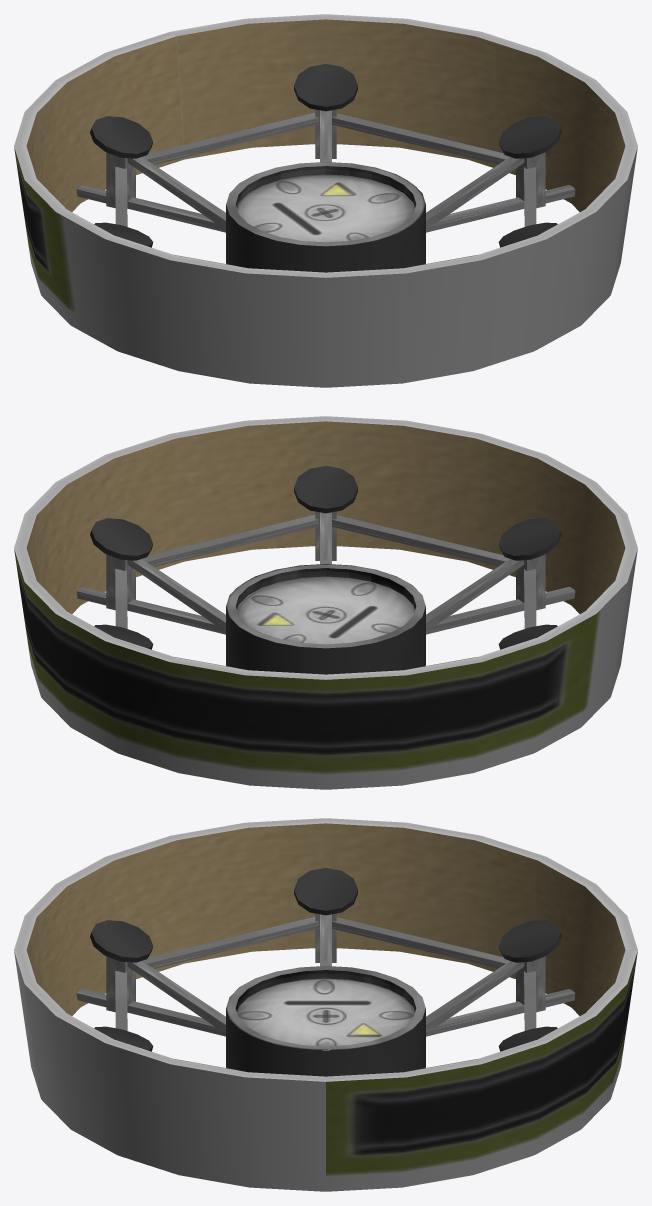
3 renders of one model, top to bottom at view 1: azimuth 30°, elevation 25°; view 2: azimuth 150°, elevation 25°; view 3: azimuth 270°, elevation 25°, orthographic.
Parts seen in each view (by area): view 1: Adapter18, Cylinder047, Cylinder029, Box040, Box043, Cylinder028, Cylinder024, Box110, Box026, Box108, Box115, Box039 (+6 smaller); view 2: Adapter18, Cylinder047, Cylinder025, Box031, Box028, Cylinder026, Cylinder024, Box026, Box114, Box112, Box108, Box027 (+6 smaller); view 3: Adapter18, Cylinder047, Cylinder027, Box034, Box037, Cylinder026, Cylinder028, Box115, Box114, Box112, Box110, Box033 (+6 smaller).
Boxes of the visible parts, x1=… form: Adapter18: x1=14, y1=14, x2=637, y2=387; Cylinder047: x1=226, y1=162, x2=425, y2=272; Cylinder029: x1=294, y1=64, x2=357, y2=111; Box040: x1=133, y1=112, x2=318, y2=170; Box043: x1=332, y1=113, x2=517, y2=169; Cylinder028: x1=90, y1=116, x2=153, y2=158; Cylinder024: x1=498, y1=116, x2=561, y2=158; Box110: x1=127, y1=157, x2=225, y2=229; Box026: x1=426, y1=157, x2=524, y2=229; Box108: x1=237, y1=185, x2=575, y2=266; Box115: x1=76, y1=185, x2=414, y2=266; Box039: x1=106, y1=152, x2=135, y2=208; Adapter18: x1=14, y1=416, x2=637, y2=789; Cylinder047: x1=226, y1=564, x2=425, y2=674; Cylinder025: x1=294, y1=466, x2=357, y2=513; Box031: x1=332, y1=515, x2=517, y2=571; Box028: x1=133, y1=514, x2=318, y2=572; Cylinder026: x1=498, y1=518, x2=561, y2=560; Cylinder024: x1=90, y1=518, x2=153, y2=560; Box026: x1=127, y1=559, x2=225, y2=631; Box114: x1=237, y1=586, x2=575, y2=668; Box112: x1=426, y1=559, x2=524, y2=631; Box108: x1=76, y1=587, x2=414, y2=668; Box027: x1=106, y1=554, x2=135, y2=610; Adapter18: x1=14, y1=818, x2=637, y2=1191; Cylinder047: x1=226, y1=966, x2=425, y2=1076; Cylinder027: x1=294, y1=868, x2=357, y2=915; Box034: x1=133, y1=916, x2=318, y2=974; Box037: x1=332, y1=917, x2=517, y2=973; Cylinder026: x1=90, y1=920, x2=153, y2=962; Cylinder028: x1=498, y1=920, x2=561, y2=962; Box115: x1=237, y1=989, x2=575, y2=1070; Box114: x1=76, y1=988, x2=414, y2=1070; Box112: x1=127, y1=961, x2=225, y2=1032; Box110: x1=426, y1=961, x2=524, y2=1029; Box033: x1=106, y1=956, x2=135, y2=1012.
Size of what is drawn, in the model's own units: 1.98 by 1.98 by 0.4121.
Materials: 1 (1 with a texture image).
